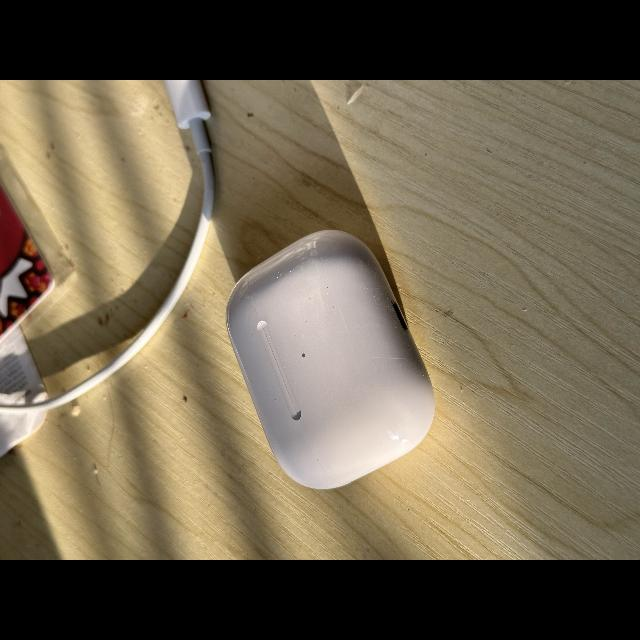AirPods Pro: (226, 230, 435, 489)
